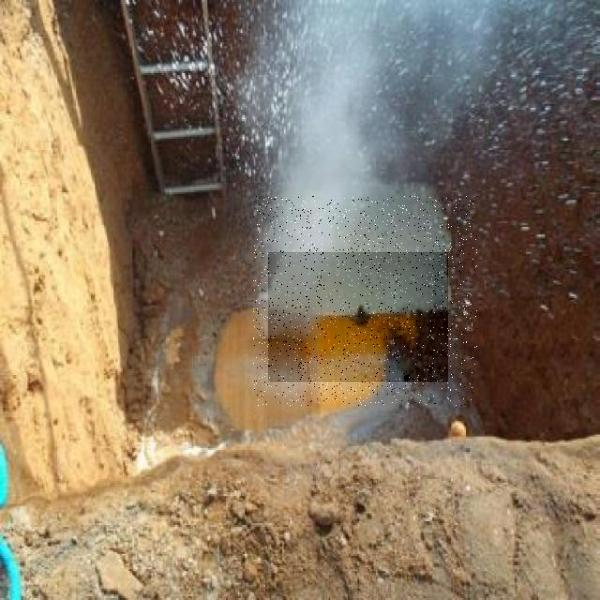water: (268, 252, 448, 382)
